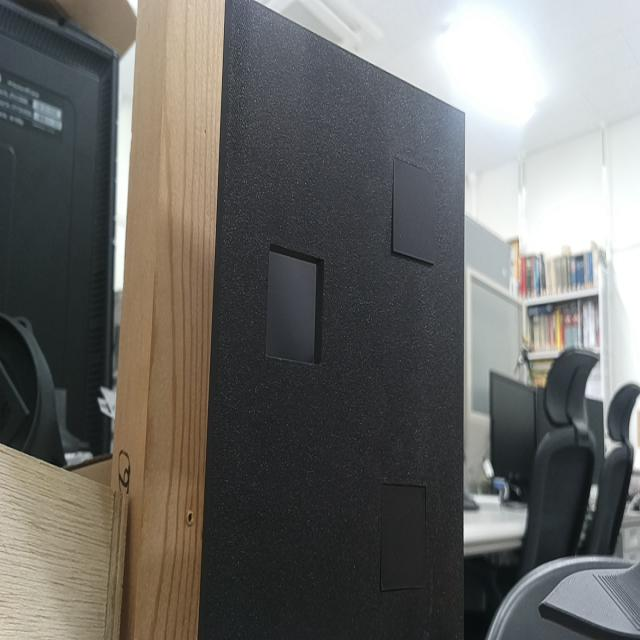Obstacle: (267, 247, 324, 361)
Wall: (211, 0, 465, 639)
